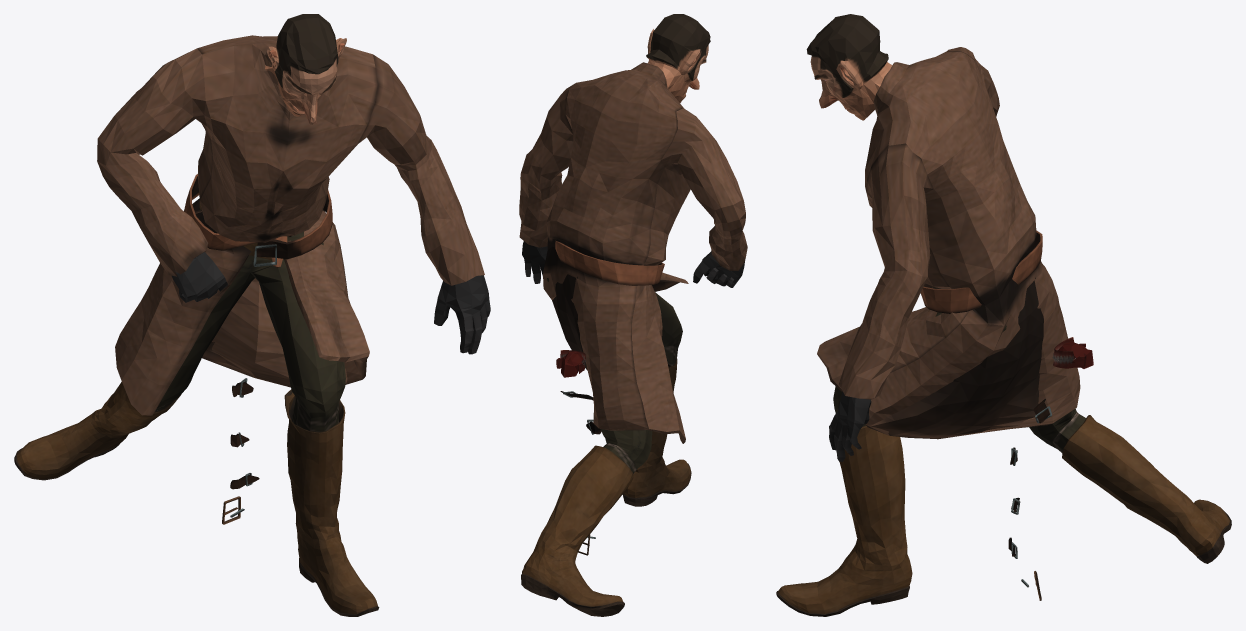
The model's file is sniper-inj-walk_joined_000009.obj.
The picture shows the model from 3 angles, left to right: view 1: azimuth 30°, elevation 25°; view 2: azimuth 150°, elevation 25°; view 3: azimuth 270°, elevation 25°; orthographic projection. The views are drawn at different scales.
Parts seen in each view (by area): view 1: Shoes; view 2: Shoes; view 3: Shoes.
Boxes of the visible parts, x1,y1,x2,y2 form: Shoes: (14, 14, 490, 616); Shoes: (519, 14, 747, 616); Shoes: (776, 14, 1231, 616).
Bounding box in the file's own units: 1.29 × 2.22 × 1.59.
